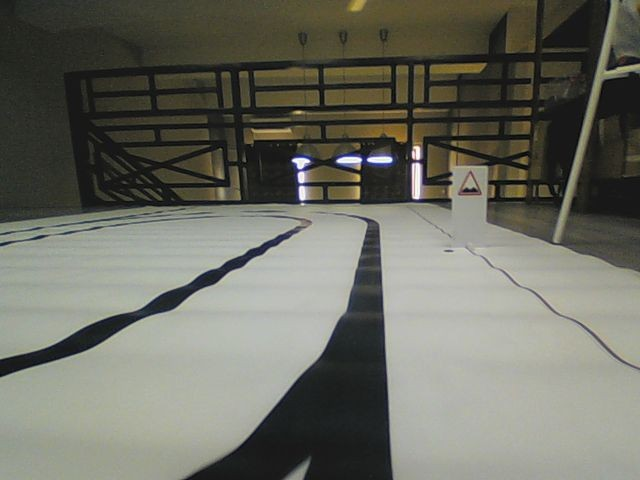Nerov: (456, 168, 483, 198)
